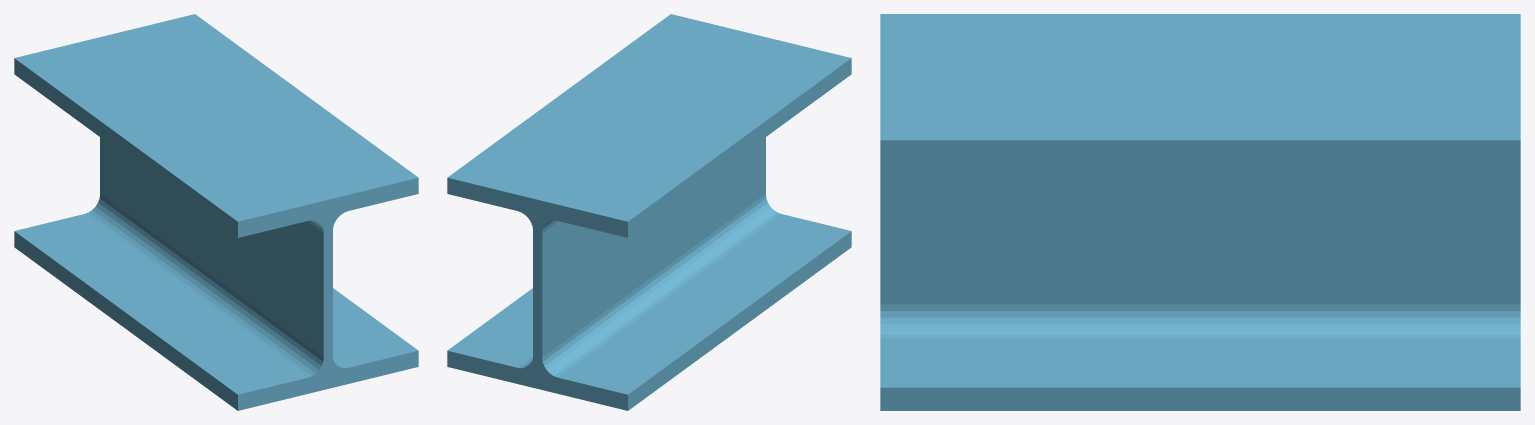
Rendered from heb-assembly.glb.
The picture shows the model from 3 angles, left to right: view 1: azimuth 30°, elevation 25°; view 2: azimuth 150°, elevation 25°; view 3: azimuth 270°, elevation 25°; orthographic projection. The views are drawn at different scales.
Visible parts, largest first — view 1: part:e063aaea-508d-5bbe-a89f-c45069b7a4c4; view 2: part:e063aaea-508d-5bbe-a89f-c45069b7a4c4; view 3: part:e063aaea-508d-5bbe-a89f-c45069b7a4c4.
Part boxes in pixels (left/top/right/bottom): part:e063aaea-508d-5bbe-a89f-c45069b7a4c4: left=14, top=14, right=418, bottom=410; part:e063aaea-508d-5bbe-a89f-c45069b7a4c4: left=447, top=14, right=851, bottom=410; part:e063aaea-508d-5bbe-a89f-c45069b7a4c4: left=880, top=14, right=1520, bottom=410.
Bounding box in the file's own units: 0.14 × 0.14 × 0.3.
